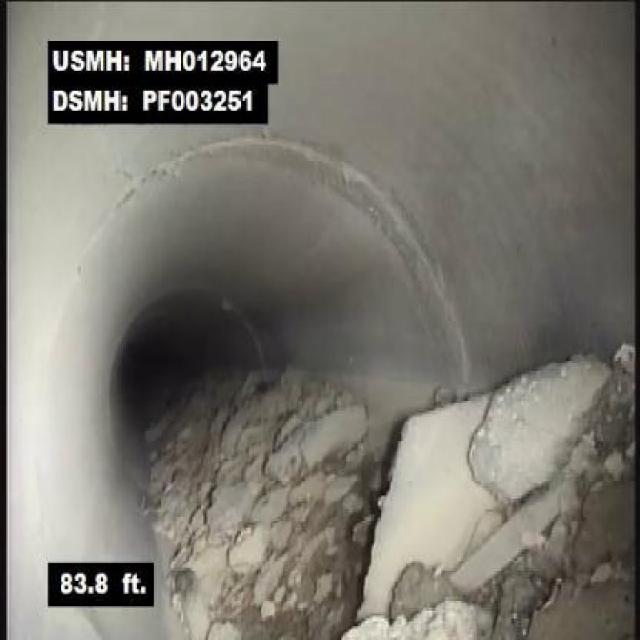Debris: (174, 412, 368, 638)
Obstacle: (352, 328, 638, 638)
